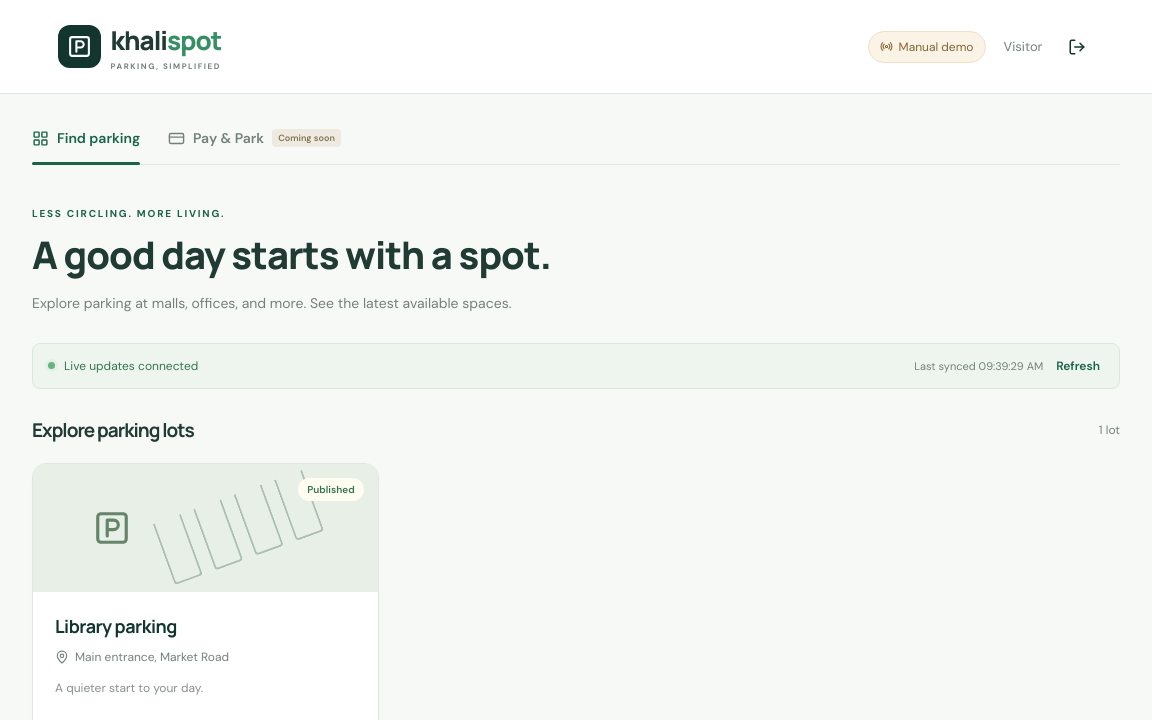
Test: owner and visitor experiences › has an informational Pay & Park tab with no payment or booking effects
This screenshot has width=1152, height=720.
Click the button "Pay & Park Coming soon" at (254,138), box [168,112,341,164]
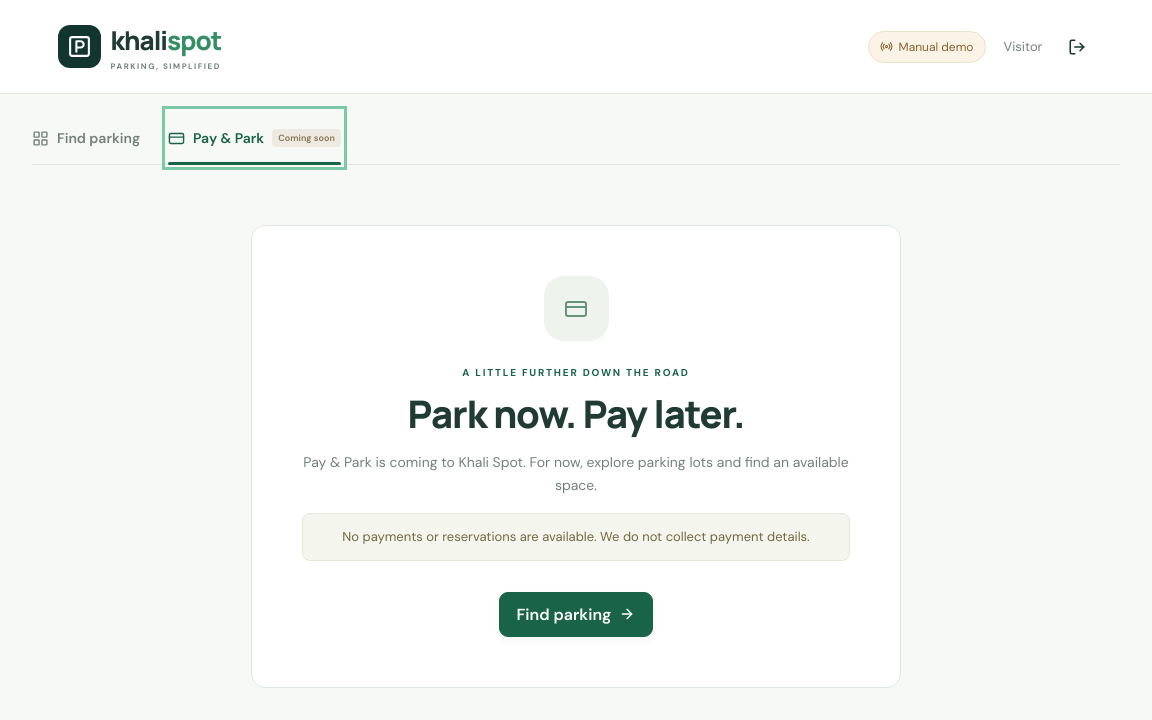
expect the text "Coming soon" is shown: met, box [272,129,341,147]
expect the text "No payments or reservations are available" is shown: met, box [342,528,810,545]
